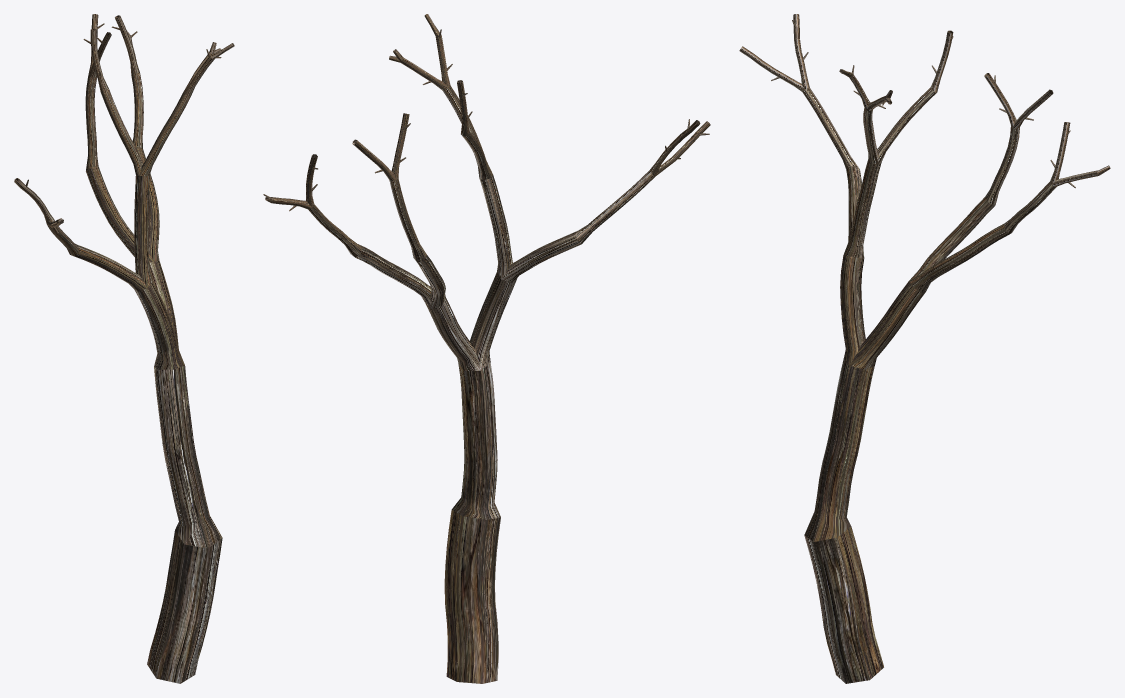
Rendered from bare_03.obj.
3 views of the same model, side by side, from view 1: azimuth 30°, elevation 25°; view 2: azimuth 150°, elevation 25°; view 3: azimuth 270°, elevation 25° (orthographic). The views are drawn at different scales.
Visible parts, largest first — view 1: treeBare_03; view 2: treeBare_03; view 3: treeBare_03.
Boxes of the visible parts, x1=… form: treeBare_03: x1=14, y1=14, x2=234, y2=683; treeBare_03: x1=263, y1=14, x2=710, y2=683; treeBare_03: x1=739, y1=14, x2=1110, y2=683.
Bounding box in the file's own units: 9 × 19.83 × 10.54.
Materials: 1 (1 with a texture image).
